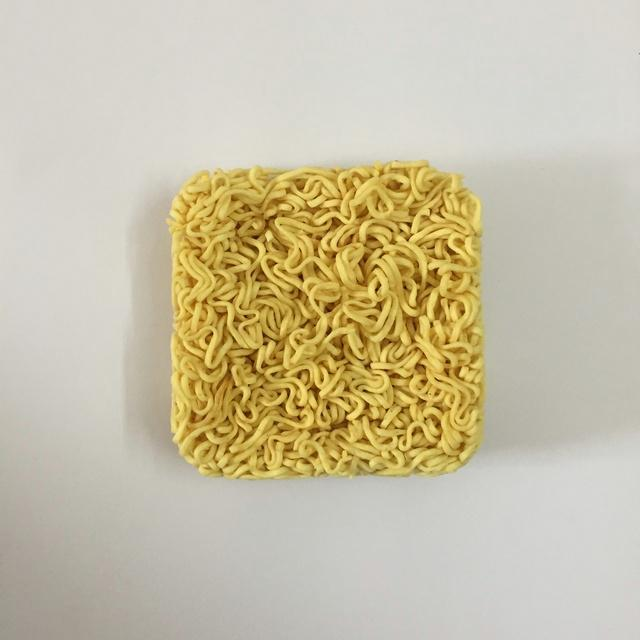noodles: (157, 153, 496, 488)
